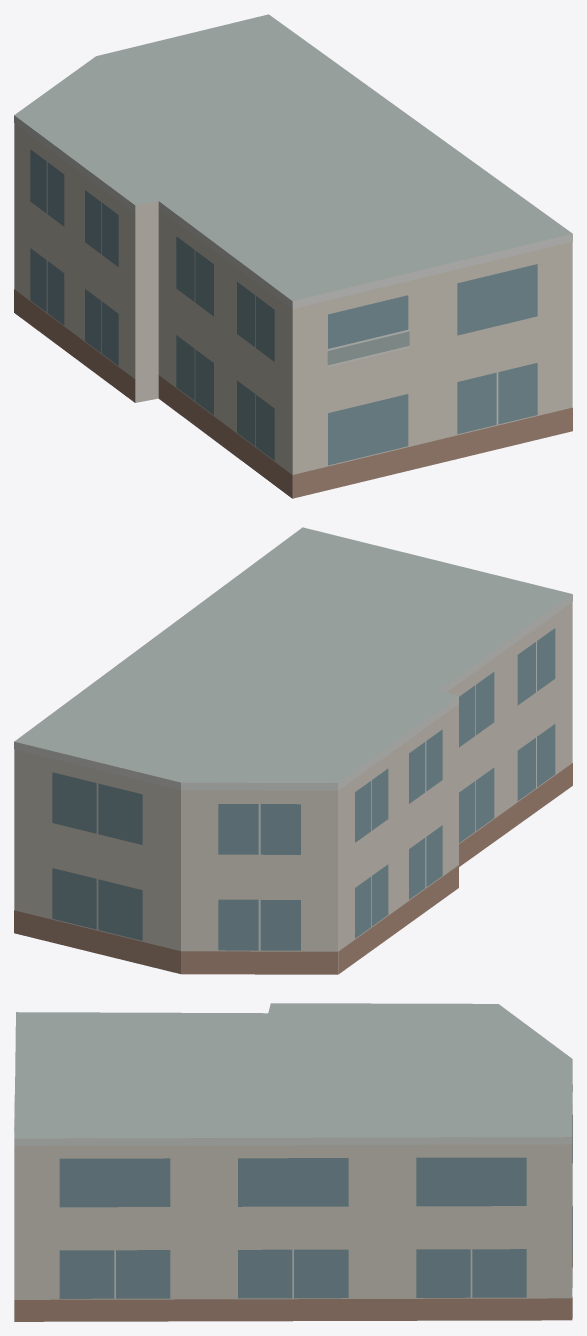
File: survey-upis-32820427.glb
The picture shows the model from 3 angles, top to bottom: view 1: azimuth 30°, elevation 25°; view 2: azimuth 150°, elevation 25°; view 3: azimuth 270°, elevation 25°; orthographic projection. The views are drawn at different scales.
Parts seen in each view (by area): view 1: survey-upis-32820427.tmp; view 2: survey-upis-32820427.tmp; view 3: survey-upis-32820427.tmp.
Boxes of the visible parts, box(x1,y1,x2,y2) form: survey-upis-32820427.tmp: box(14, 14, 572, 498); survey-upis-32820427.tmp: box(14, 527, 572, 974); survey-upis-32820427.tmp: box(14, 1003, 572, 1321).
Bounding box in the file's own units: 9.69 × 6.1 × 16.87.
